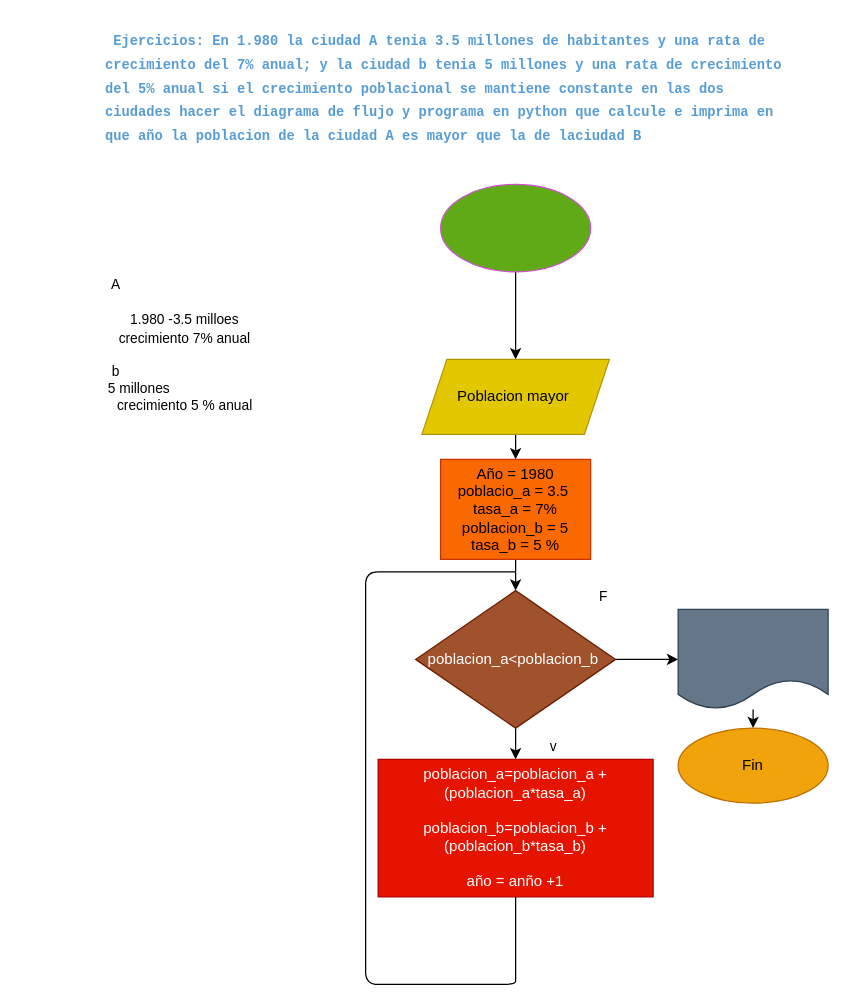
The diagram is 850 pixels wide and 1008 high, and some of its shapes have lost their labels. Here are the shapes that lost their labels. From the top down, the centre of each, then its label:
At (515,227): "INICIO".
At (752,658): "año".
